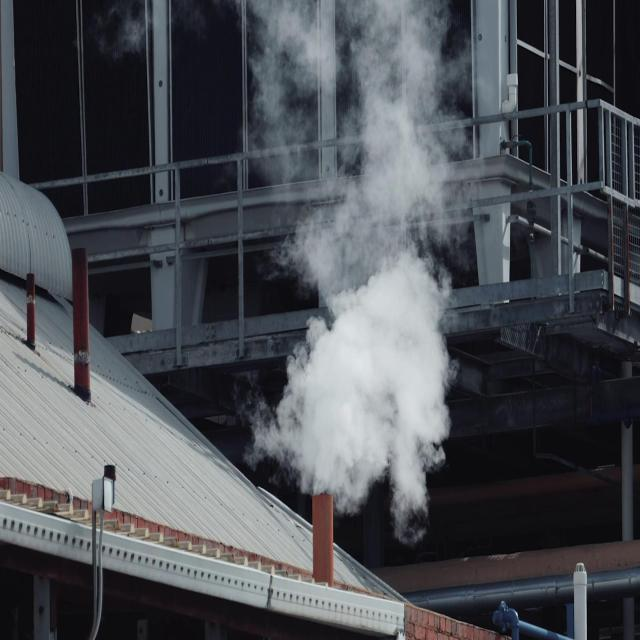Smoke: (242, 0, 475, 501)
